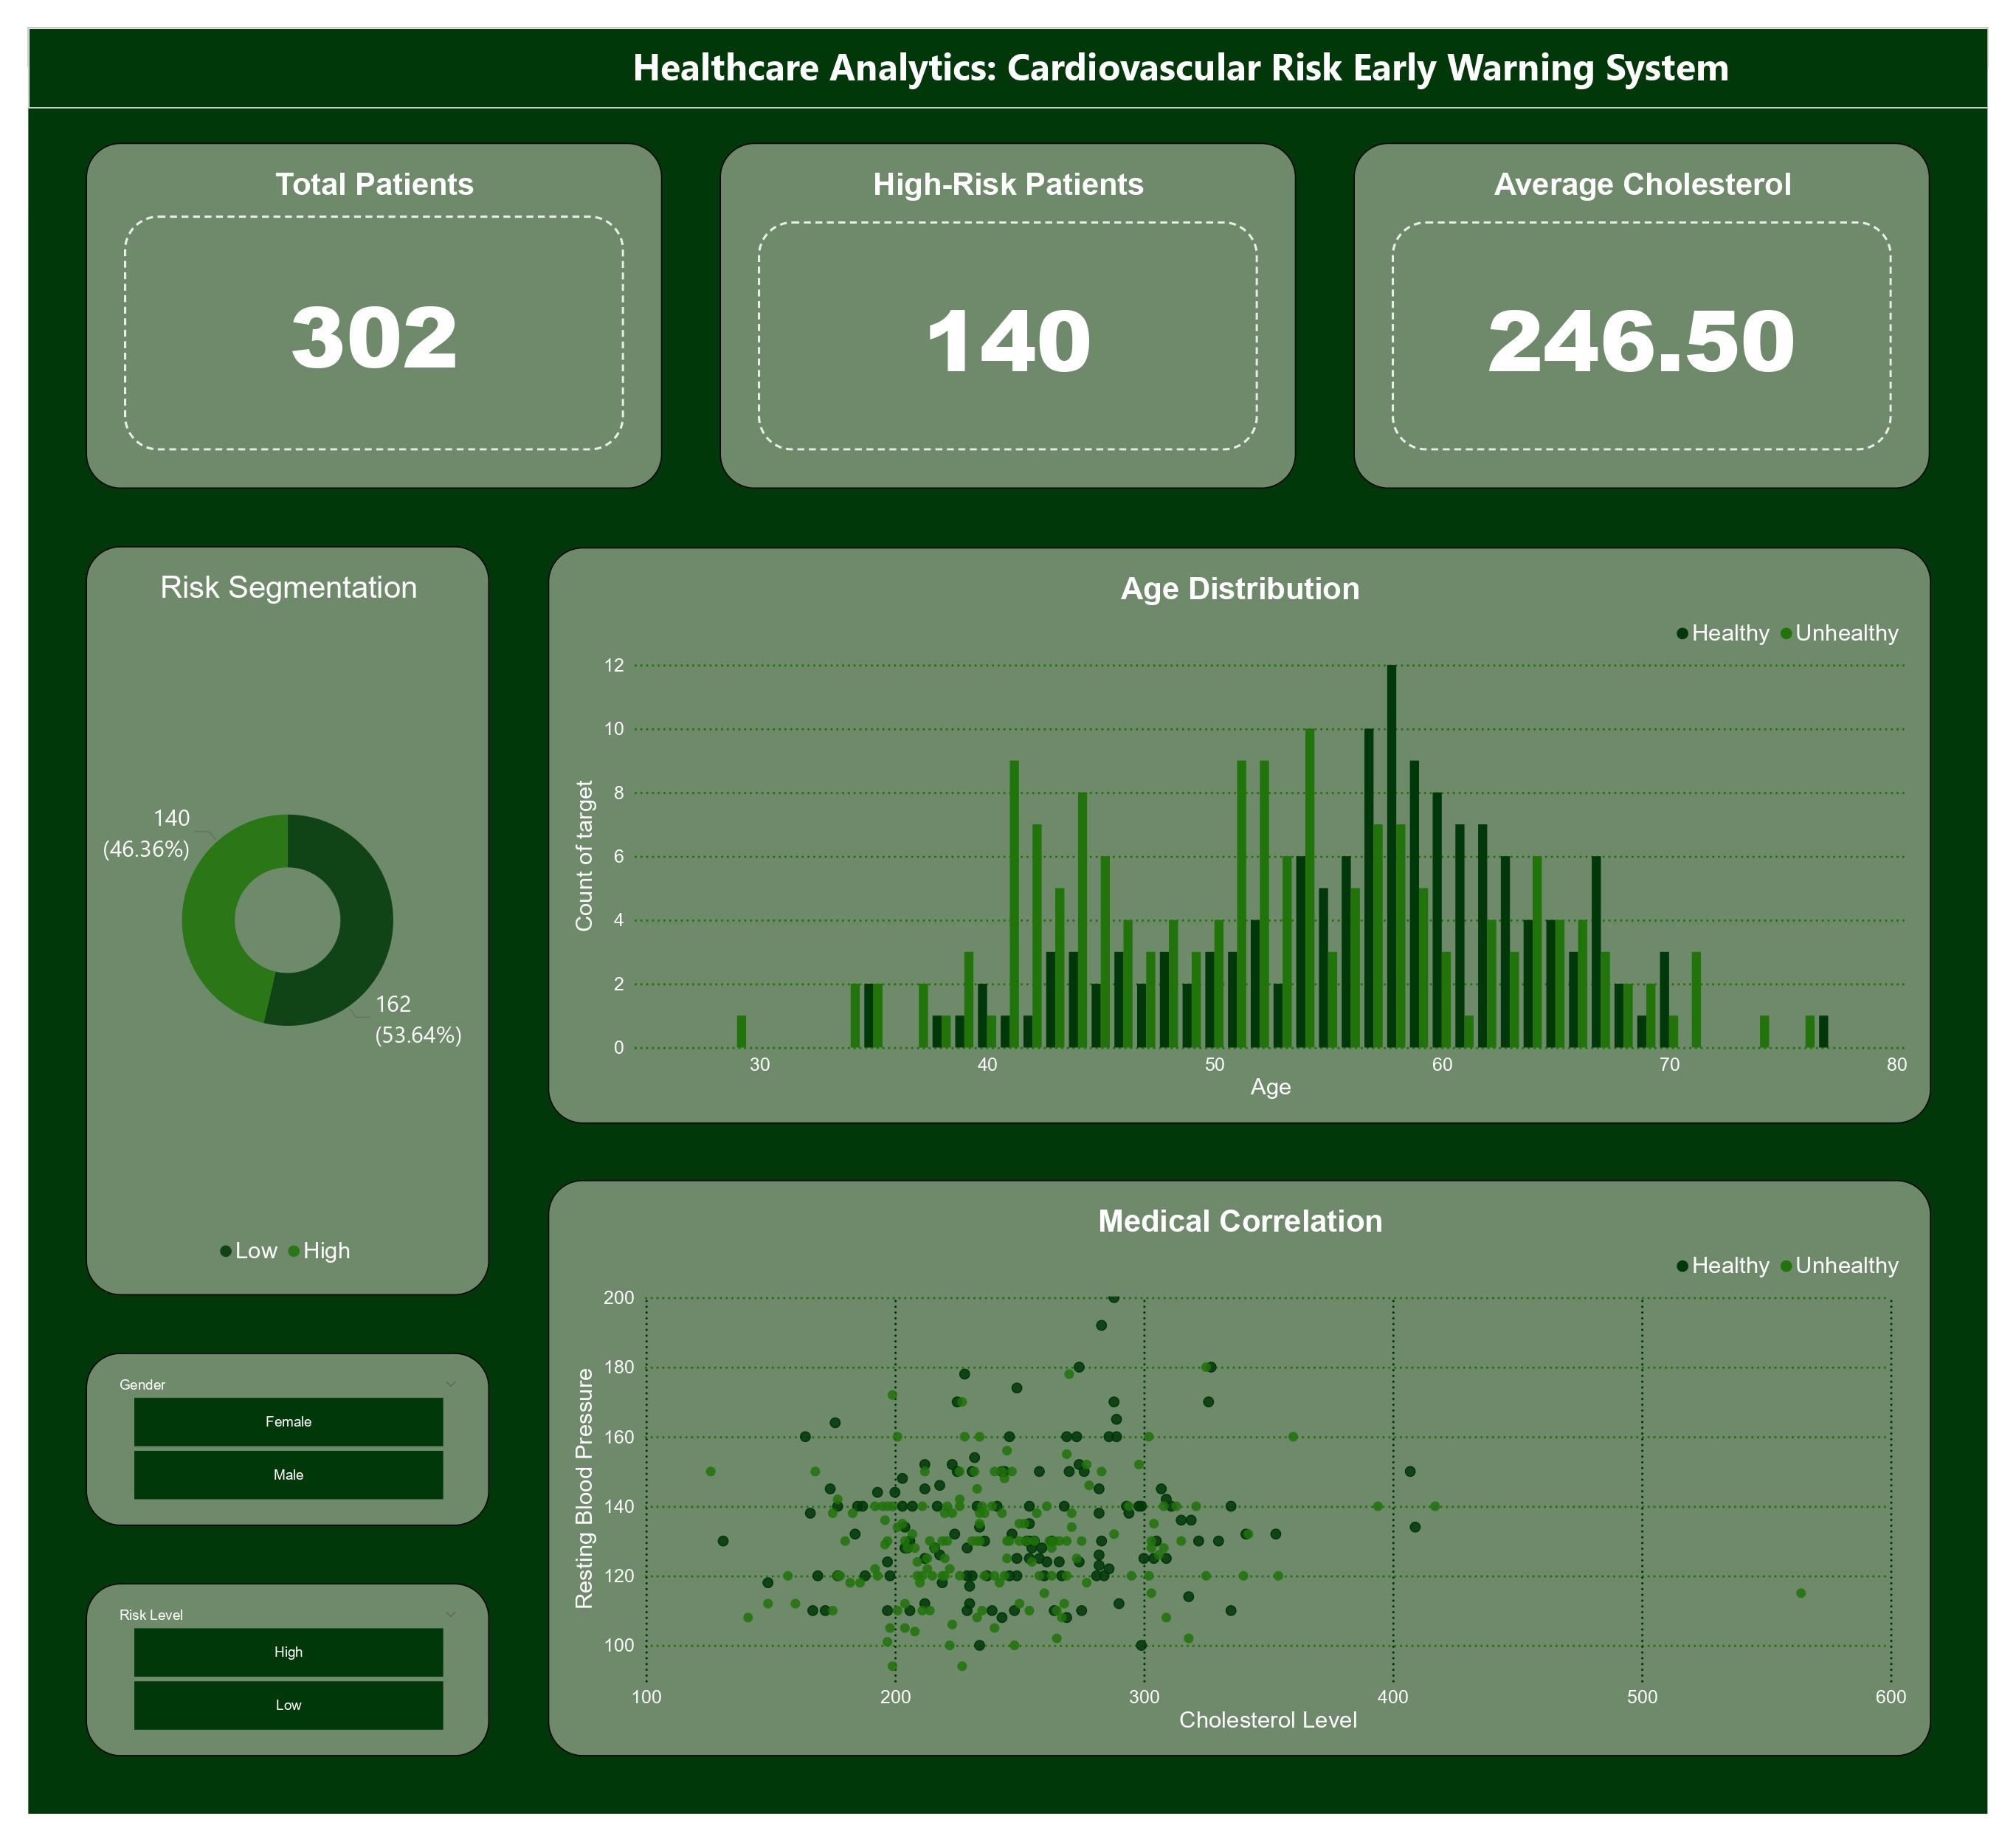

Layout of this report page (visuals, bound fields, positions):
{"tool":"powerbi","page":{"name":"Healthcare Analytics: Cardiovascular Risk Early Warning System","canvas":[1700,1550],"ordinal":0},"visuals":[{"type":"cardVisual","title":"Total Patients","fields":{"Data":["CountNonNull(public fact_heart_disease_final.age)"]},"box":[50,100,500,300],"z":0},{"type":"cardVisual","title":"High-Risk Patients","fields":{"Data":["CountNonNull(public fact_heart_disease_final.Risk_Level)"]},"box":[600,100,500,300],"z":1000},{"type":"cardVisual","title":"Average Cholesterol","fields":{"Data":["Avg(public fact_heart_disease_final.chol)"]},"box":[1150,100,500,300],"z":2000},{"type":"donutChart","title":"Risk Segmentation","fields":{"Category":["public fact_heart_disease_final.Risk_Level"],"Y":["CountNonNull(public fact_heart_disease_final.target)"]},"box":[50,450,350,650],"z":3000},{"type":"clusteredColumnChart","title":"Age Distribution","fields":{"Category":["public fact_heart_disease_final.age"],"Y":["CountNonNull(public fact_heart_disease_final.target)"],"Series":["public fact_heart_disease_final.target"]},"box":[450.7,450.7,1200,500],"z":4000},{"type":"scatterChart","title":"Medical Correlation","fields":{"X":["Sum(public fact_heart_disease_final.chol)"],"Y":["Sum(public fact_heart_disease_final.trestbps)"],"Series":["public fact_heart_disease_final.target"]},"box":[450.7,1000,1200,500],"z":5000},{"type":"textbox","box":[0,0,1999.5,69.7],"z":6000},{"type":"slicer","fields":{"Values":["public fact_heart_disease_final.sex"]},"box":[50,1150,350,150],"z":7000},{"type":"slicer","fields":{"Values":["public fact_heart_disease_final.Risk_Level"]},"box":[50,1350,350,150],"z":8000}]}

Visuals, with their boxes in screenshot pixels (x1, y1, x2, y2), scaled from the page's 1700x1550 canvas onto the 2016x1842 screenshot:
"Total Patients" cardVisual: box(59, 119, 652, 475)
"High-Risk Patients" cardVisual: box(711, 119, 1305, 475)
"Average Cholesterol" cardVisual: box(1364, 119, 1957, 475)
"Risk Segmentation" donutChart: box(59, 535, 474, 1307)
"Age Distribution" clusteredColumnChart: box(534, 536, 1958, 1130)
"Medical Correlation" scatterChart: box(534, 1188, 1958, 1782)
textbox: box(0, 0, 2015, 83)
slicer - public fact_heart_disease_final.sex: box(59, 1367, 474, 1545)
slicer - public fact_heart_disease_final.Risk_Level: box(59, 1604, 474, 1782)
